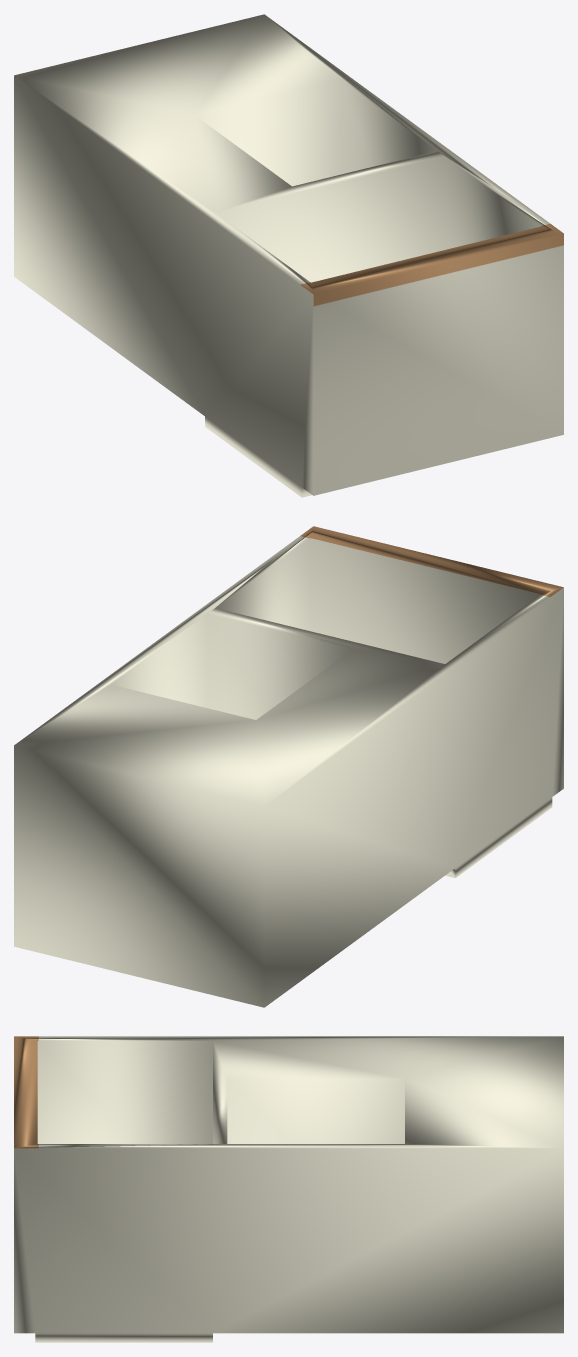
The model's file is rangeRack.dae.
The picture shows the model from 3 angles, top to bottom: view 1: azimuth 30°, elevation 25°; view 2: azimuth 150°, elevation 25°; view 3: azimuth 270°, elevation 25°; orthographic projection. The views are drawn at different scales.
Parts seen in each view (by area): view 1: transform1; view 2: transform1; view 3: transform1.
Part boxes in pixels (bbox=[...]): transform1: bbox=[14, 14, 563, 497]; transform1: bbox=[14, 526, 563, 1007]; transform1: bbox=[14, 1036, 563, 1342].
Size of the model in its own units: 0.56 by 0.452 by 1.16.
Materials: 1 (1 with a texture image).
